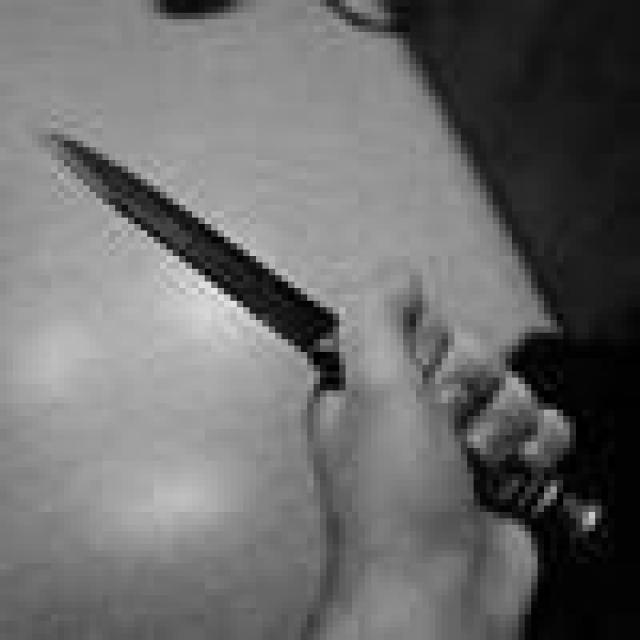knife: (33, 128, 613, 568)
